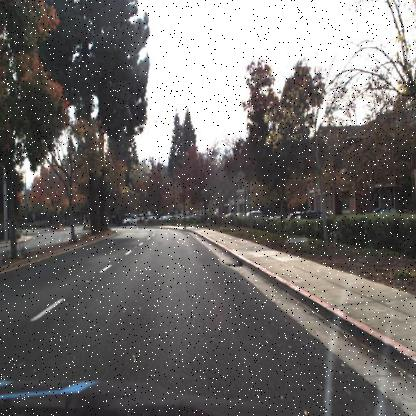car: (371, 204, 401, 216), (120, 209, 142, 225)
